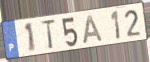1: (109, 9, 122, 42), (24, 21, 37, 54)
2: (124, 9, 142, 39)
5: (61, 15, 80, 48)
A: (82, 14, 104, 45)
T: (39, 18, 57, 51)
